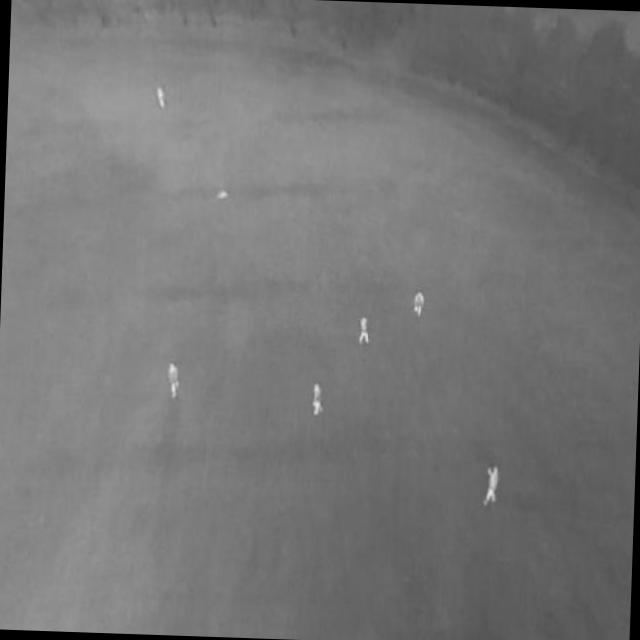person: (483, 468, 500, 509), (166, 363, 181, 401), (311, 383, 326, 418), (357, 315, 370, 348), (412, 288, 425, 317), (156, 85, 167, 109)
